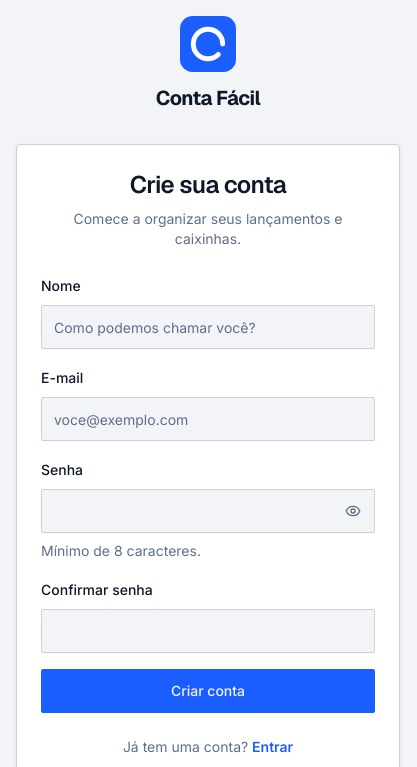
Test: TelaCadastro › nao envia quando a confirmacao da senha e diferente
This screenshot has width=417, height=767.
Type "Ana Souza" into the field labelled "Nome" at (208, 327), box [41,305,375,349]
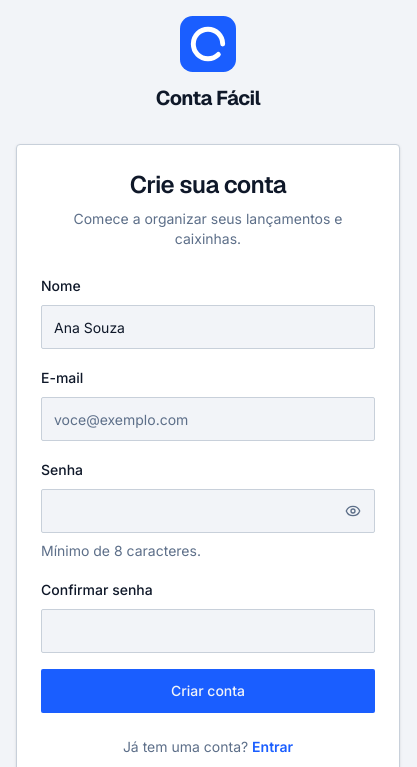
Type "ana@exemplo.com" into the field labelled "E-mail" at (208, 419), box [41,397,375,441]
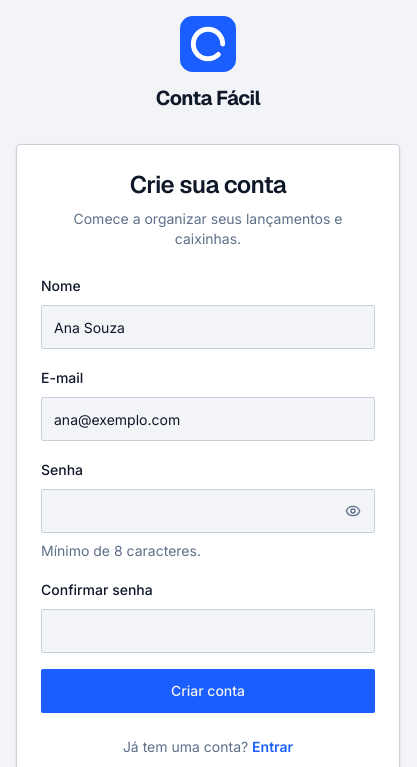
Type "segredo123" into the password field labelled "Senha" at (208, 511), box [41,489,375,533]
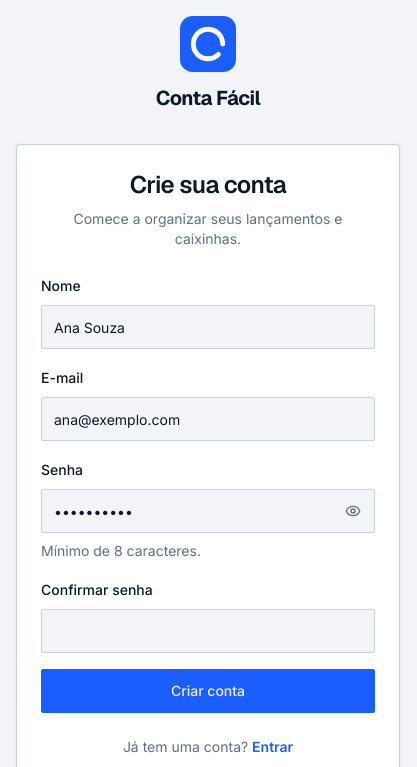
Type "segredo123" into the password field labelled "Confirmar senha" at (208, 631), box [41,609,375,653]
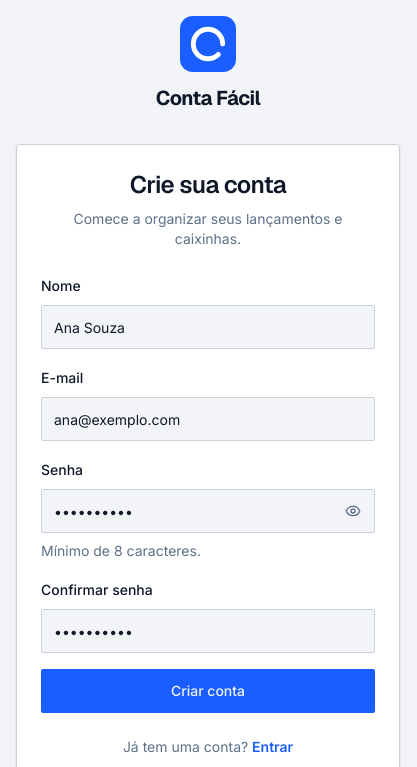
Type "outra-senha" into the password field labelled "Confirmar senha" at (208, 631), box [41,609,375,653]
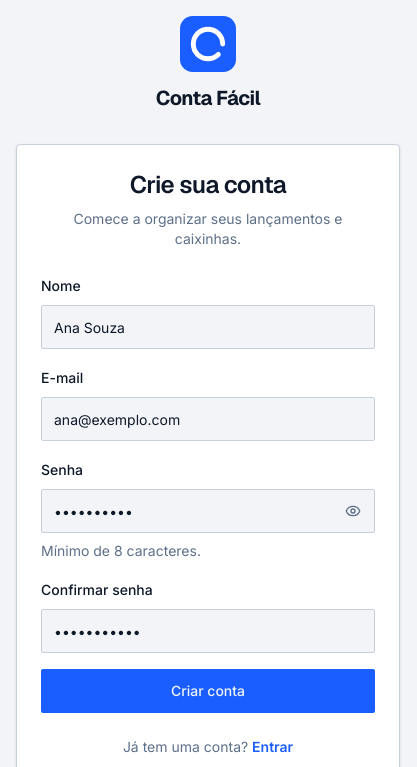
Click the button "Criar conta" at (208, 691), box [41,669,375,713]
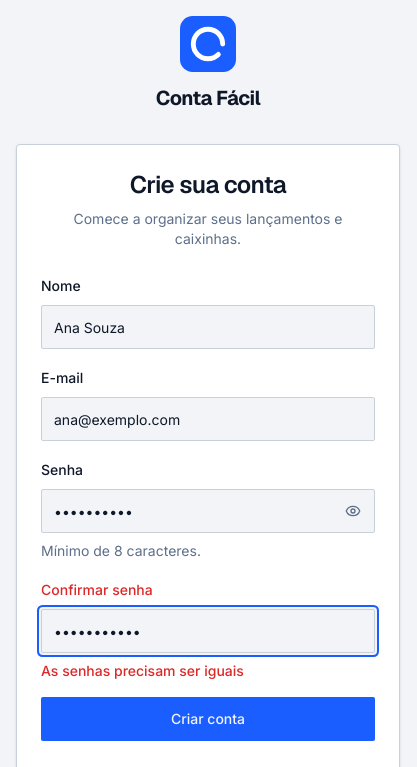
Expected: the text "As senhas precisam ser iguais" is shown, [41,662,244,679]
